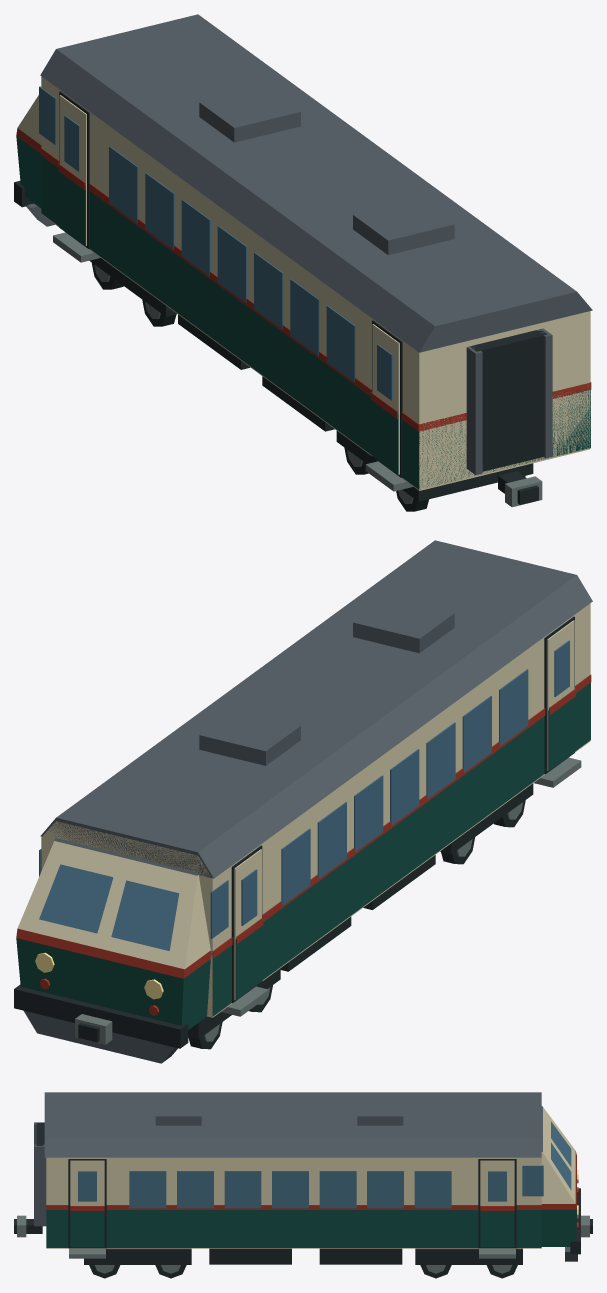
File: RegionalCab.fbx
The picture shows the model from 3 angles, top to bottom: view 1: azimuth 30°, elevation 25°; view 2: azimuth 150°, elevation 25°; view 3: azimuth 270°, elevation 25°; orthographic projection. The views are drawn at different scales.
Parts seen in each view (by area): view 1: Faceted gray roof, Cream car shell, Lower green body, Gangway -5.43, Roof equipment -2.6, Roof equipment 1.6, Continuous red belt, Gangway fold -5.43 -0.55, Passenger window -1 3, Passenger window -1 1, Passenger window -1 6, Passenger window -1 2 (+19 smaller); view 2: Faceted gray roof, Lower green body, Cream car shell, Cab nose band 2, Cab nose band 0, Roof equipment -2.6, Roof equipment 1.6, Dark front buffer, Front windshield 1, Front windshield -1, Lower nose skirt, Cab nose band 1 (+23 smaller); view 3: Faceted gray roof, Lower green body, Cream car shell, Cab nose band 2, Bogie -3.45, Bogie 3.45, Roof equipment -2.6, Roof equipment 1.6, Passenger window 1 0, Passenger window 1 4, Passenger window 1 6, Passenger window 1 2 (+23 smaller).
Part boxes in pixels (x1,y1,x2,y2): Faceted gray roof: [40, 14, 592, 352]; Cream car shell: [41, 76, 590, 490]; Lower green body: [41, 156, 590, 489]; Gangway -5.43: [470, 329, 547, 471]; Roof equipment -2.6: [353, 198, 454, 255]; Roof equipment 1.6: [199, 86, 300, 142]; Continuous red belt: [40, 148, 591, 431]; Gangway fold -5.43 -0.55: [466, 346, 482, 474]; Passenger window -1 3: [217, 226, 246, 302]; Passenger window -1 1: [290, 279, 319, 356]; Passenger window -1 6: [109, 146, 138, 223]; Passenger window -1 2: [254, 252, 283, 329]; Faceted gray roof: [40, 540, 592, 878]; Lower green body: [211, 682, 590, 1016]; Cream car shell: [41, 603, 590, 1017]; Cab nose band 2: [17, 841, 210, 969]; Cab nose band 0: [16, 938, 210, 1029]; Roof equipment -2.6: [353, 597, 454, 653]; Roof equipment 1.6: [199, 709, 300, 765]; Dark front buffer: [14, 984, 188, 1048]; Front windshield 1: [39, 864, 113, 933]; Front windshield -1: [111, 880, 179, 950]; Lower nose skirt: [24, 1011, 177, 1063]; Cab nose band 1: [16, 928, 210, 978]; Faceted gray roof: [44, 1092, 541, 1157]; Lower green body: [46, 1210, 541, 1247]; Cream car shell: [46, 1157, 541, 1248]; Cab nose band 2: [541, 1107, 575, 1203]; Bogie -3.45: [84, 1248, 191, 1264]; Bogie 3.45: [415, 1248, 522, 1264]; Roof equipment -2.6: [155, 1095, 201, 1125]; Roof equipment 1.6: [357, 1095, 403, 1125]; Passenger window 1 0: [129, 1171, 166, 1208]; Passenger window 1 4: [319, 1171, 356, 1208]; Passenger window 1 6: [414, 1171, 451, 1208]; Passenger window 1 2: [224, 1171, 261, 1208].
Size of the model in its own units: 2.96 by 3.58 by 12.06.
